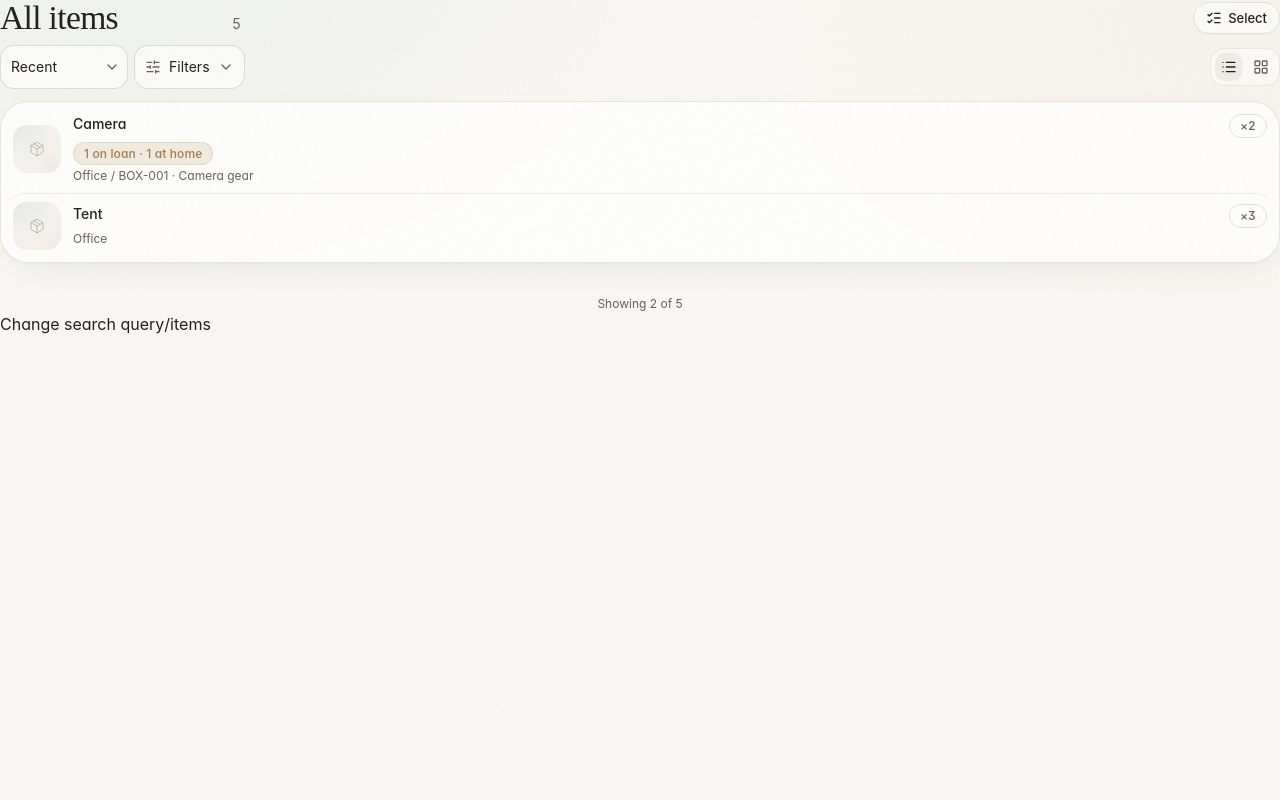
Test case: ItemsPage bulk organisation › selects only loaded items, moves them and clears selection
This screenshot has width=1280, height=800.
Expected: the text "Camera" is shown, [73,115,126,132]
Click the button with aria-label "Select items" at coordinates (1237, 18), box [1193,2,1279,34]
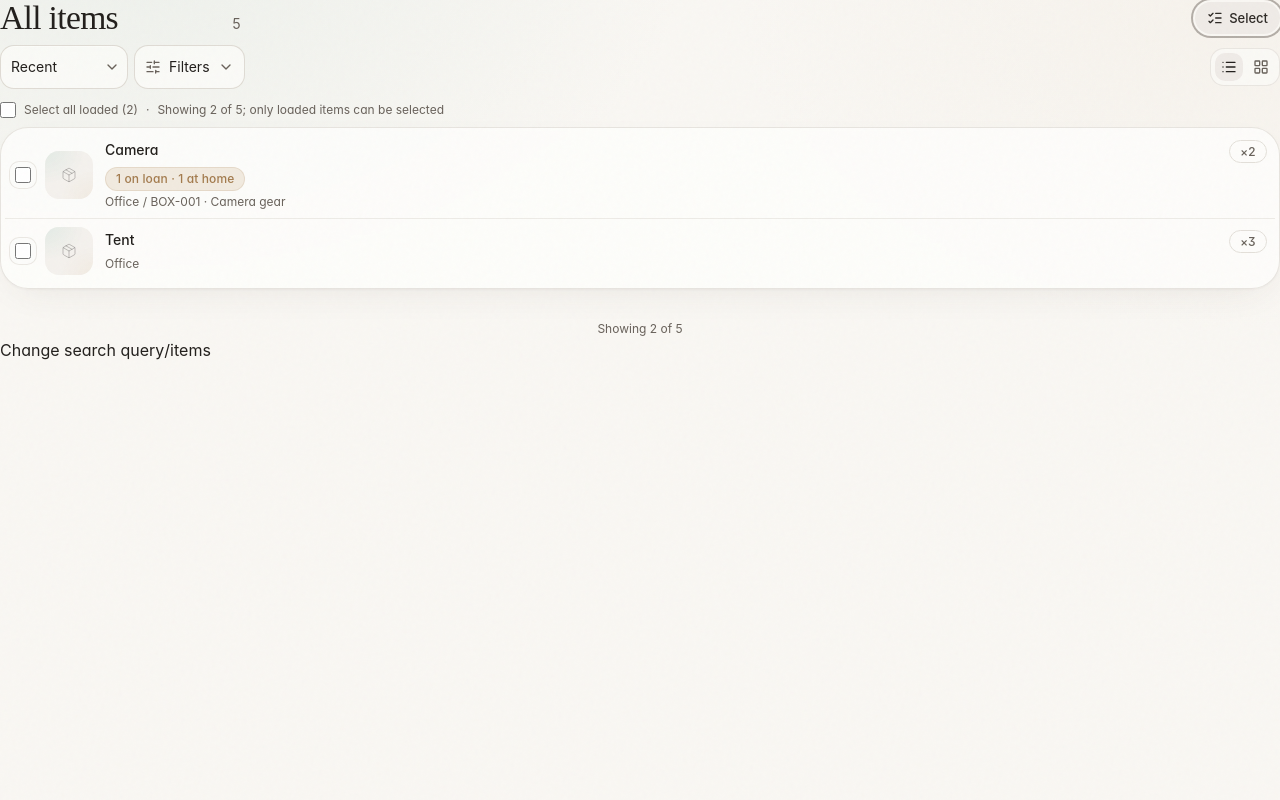
Click the checkbox named "Select Camera" at coordinates (23, 175), box [15,167,31,183]
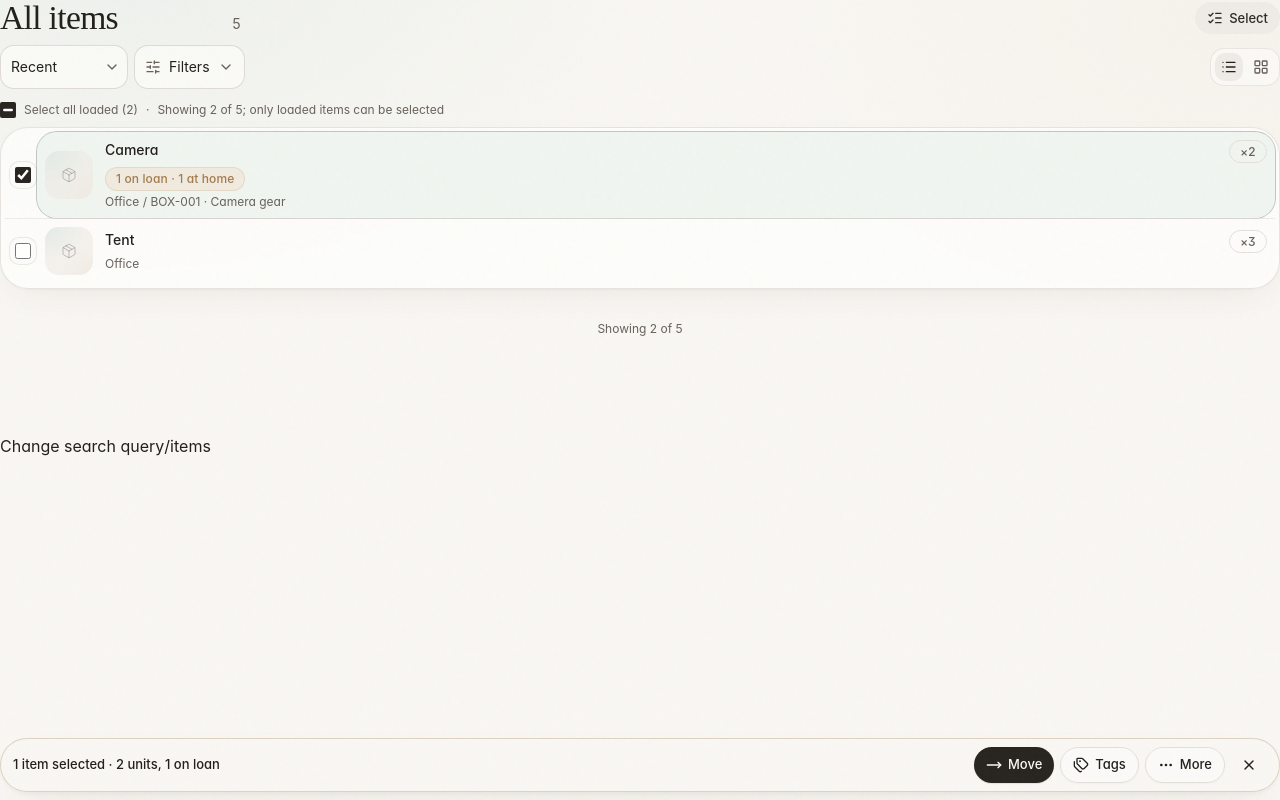
Result: the text "Showing 2 of 5; only loaded items can be selected" is shown at [157,101,444,119]
Result: the text "1 item selected · 2 units, 1 on loan" is shown at [13,756,220,772]
Click the button "Move" at coordinates (1014, 765), box [974,747,1054,783]
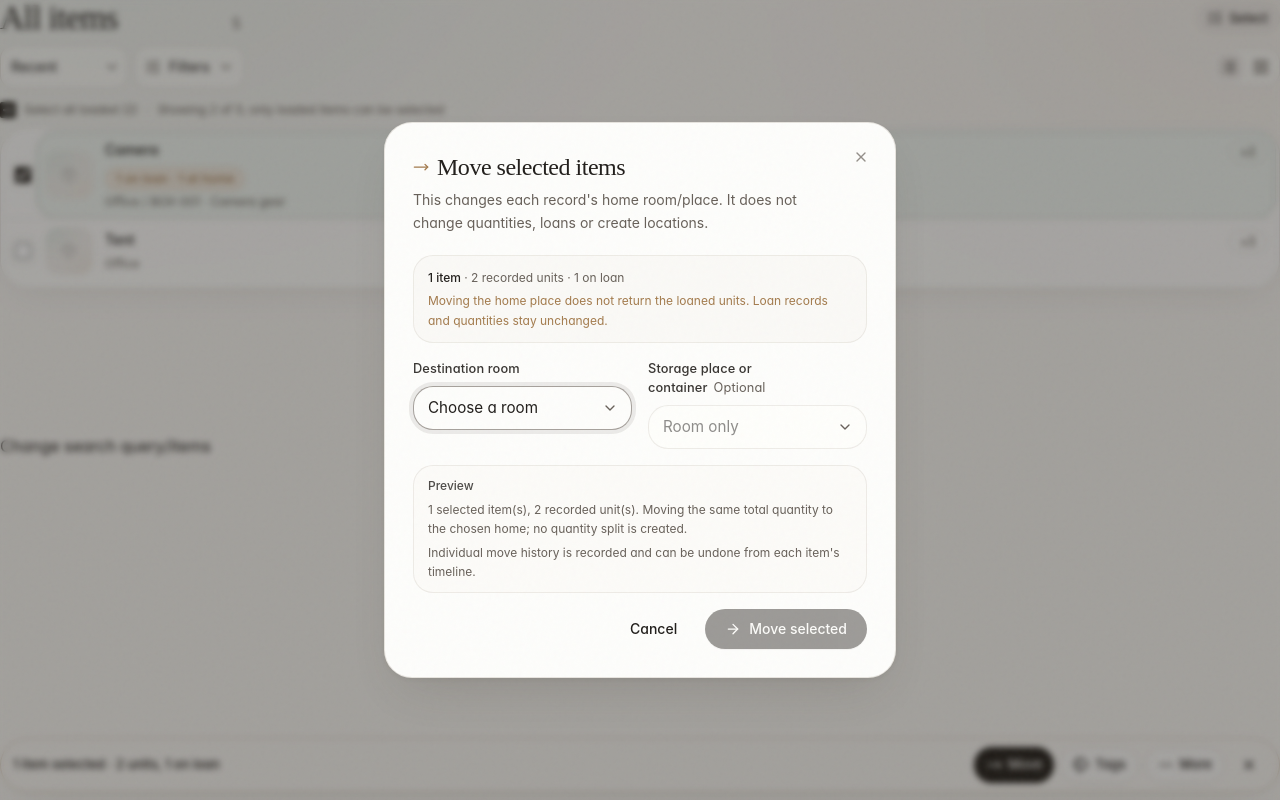
Result: the heading "Move selected items" is shown at [413,154,625,180]
Select "Office" in the dropdown labelled "Destination room" at coordinates (522, 408), box [413,386,632,430]
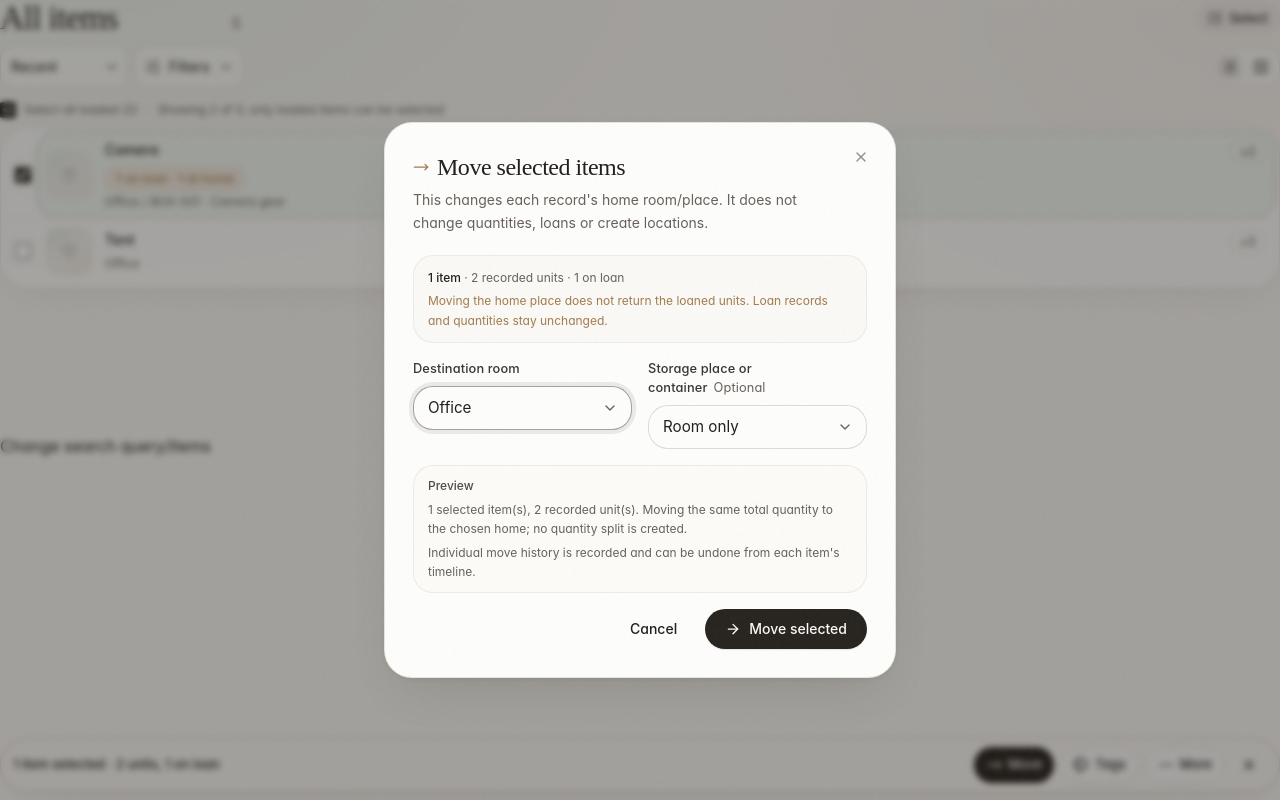
Select "BOX-001" in the dropdown labelled "Storage place or container" at coordinates (758, 427), box [648,405,867,449]
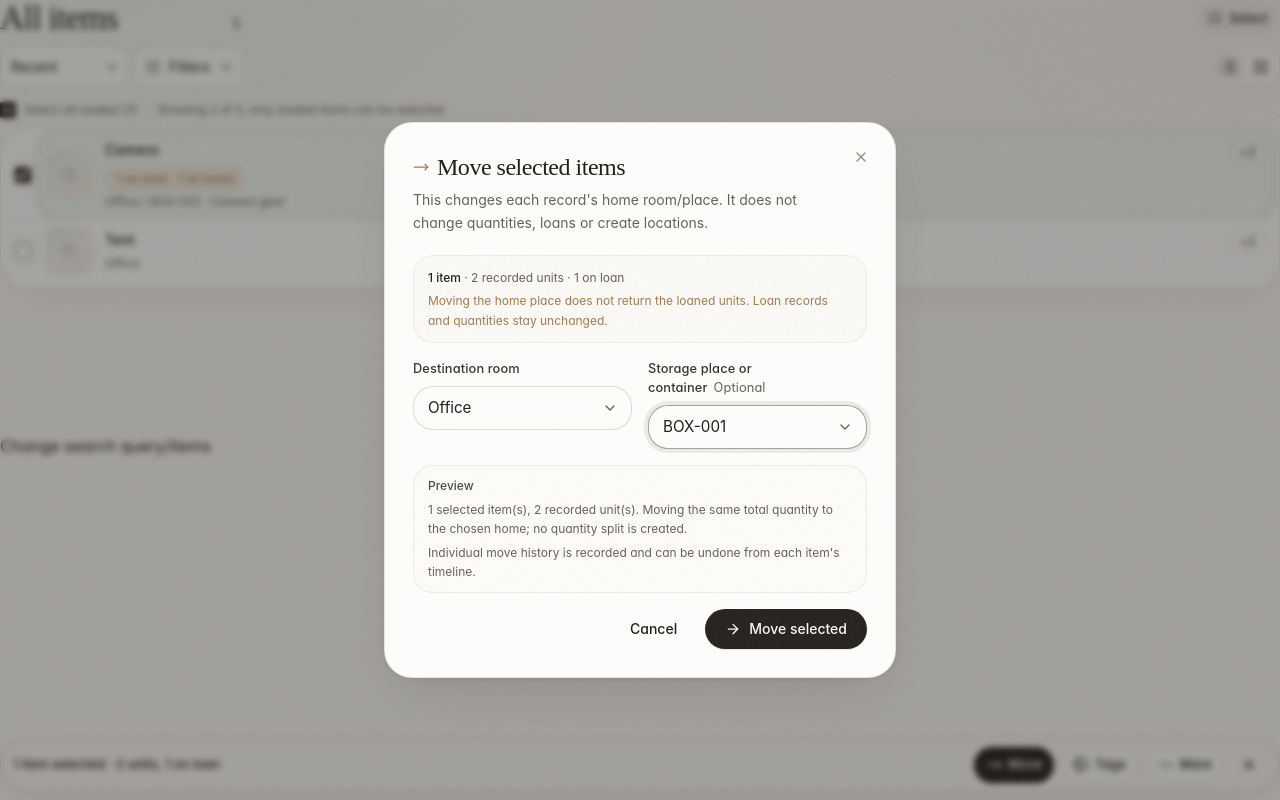
Click the button "Move selected" at coordinates (786, 629), box [705,609,867,649]
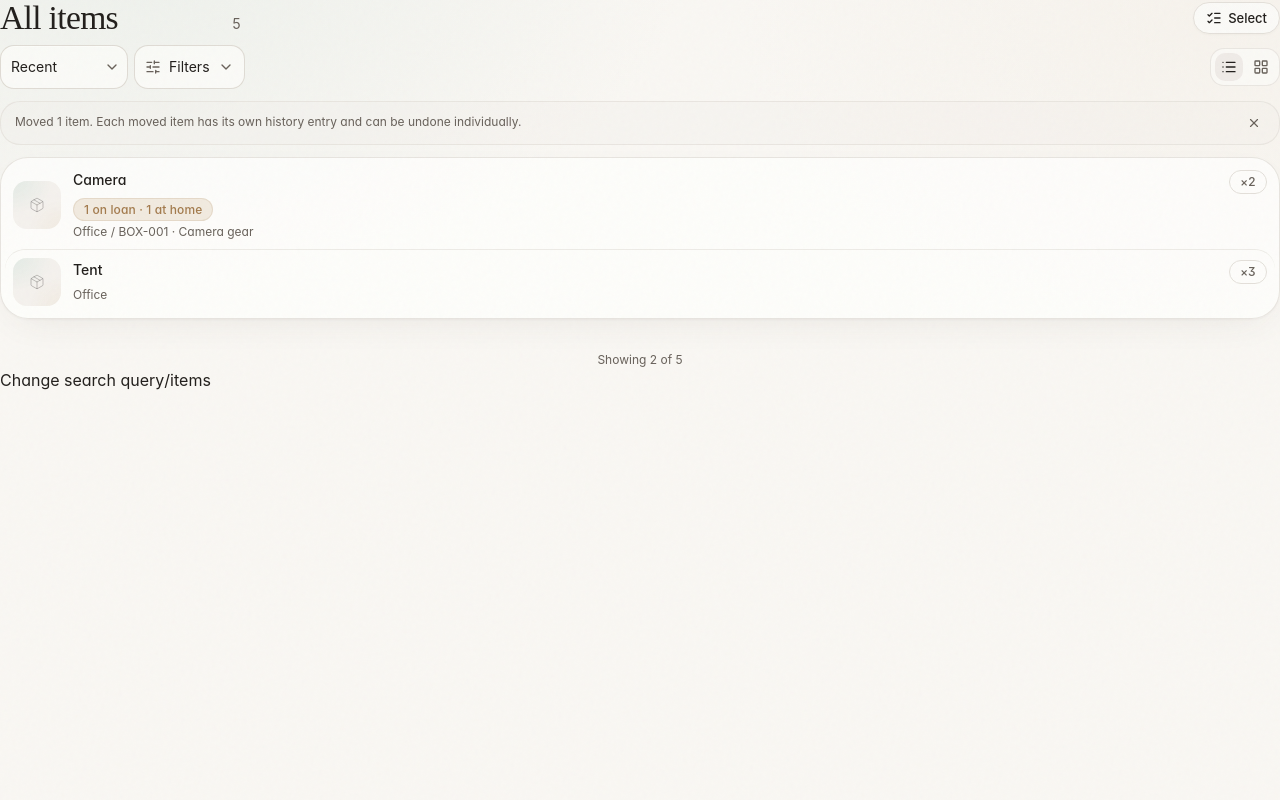
Result: the text "Moved 1 item. Each moved item" is shown at [15,114,521,129]
Result: the text "selected ·" is gone
